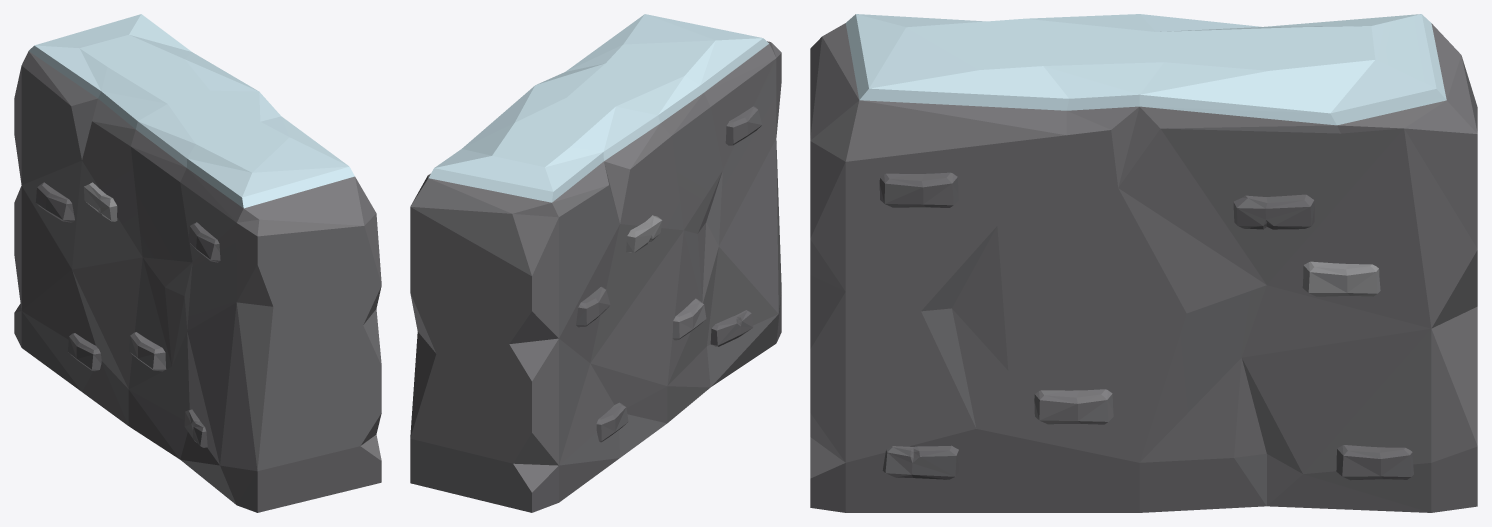
The model's file is SM_Bld_Rockwall_Straight_01_Snow.gltf.
3 views of the same model, side by side, from view 1: azimuth 30°, elevation 25°; view 2: azimuth 150°, elevation 25°; view 3: azimuth 270°, elevation 25° (orthographic). The views are drawn at different scales.
Parts seen in each view (by area): view 1: SM_Bld_Rockwall_Straight_01_Snow; view 2: SM_Bld_Rockwall_Straight_01_Snow; view 3: SM_Bld_Rockwall_Straight_01_Snow.
Boxes of the visible parts, <box> form: SM_Bld_Rockwall_Straight_01_Snow: <box>14,14,381,512</box>; SM_Bld_Rockwall_Straight_01_Snow: <box>410,14,781,512</box>; SM_Bld_Rockwall_Straight_01_Snow: <box>810,14,1477,512</box>.
Size of the model in its own units: 1.51 by 2.77 by 4.01.
Materials: 1 (1 with a texture image).
